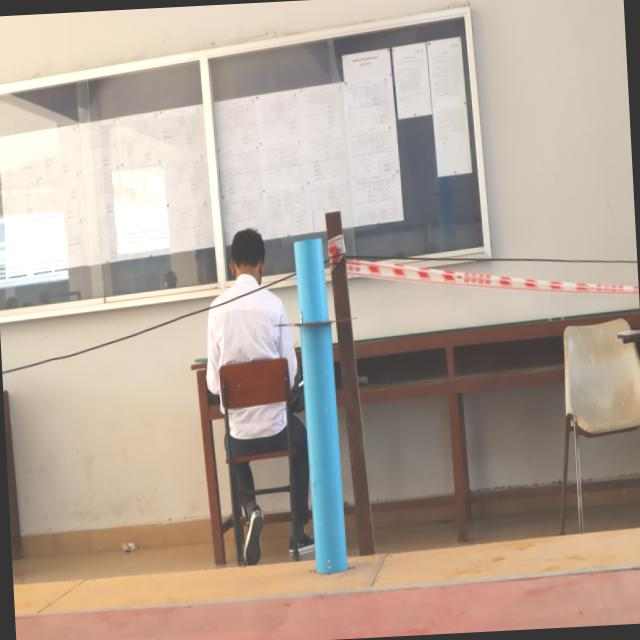pole: (266, 230, 358, 404)
